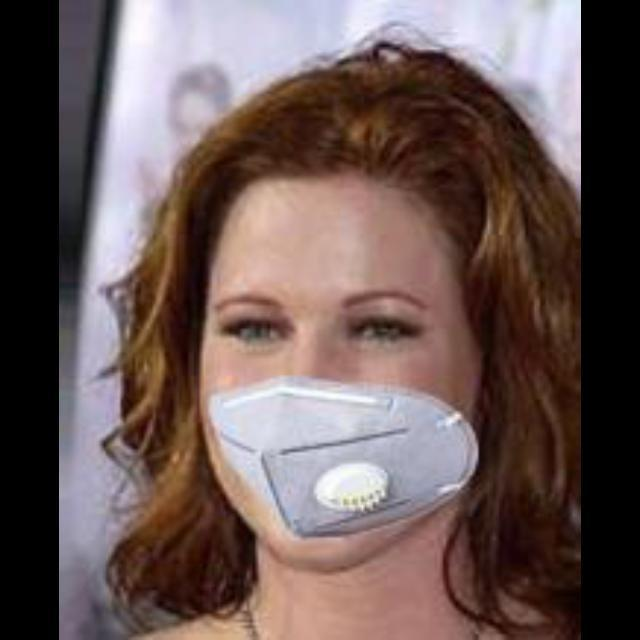suspicion: (176, 32, 518, 574)
